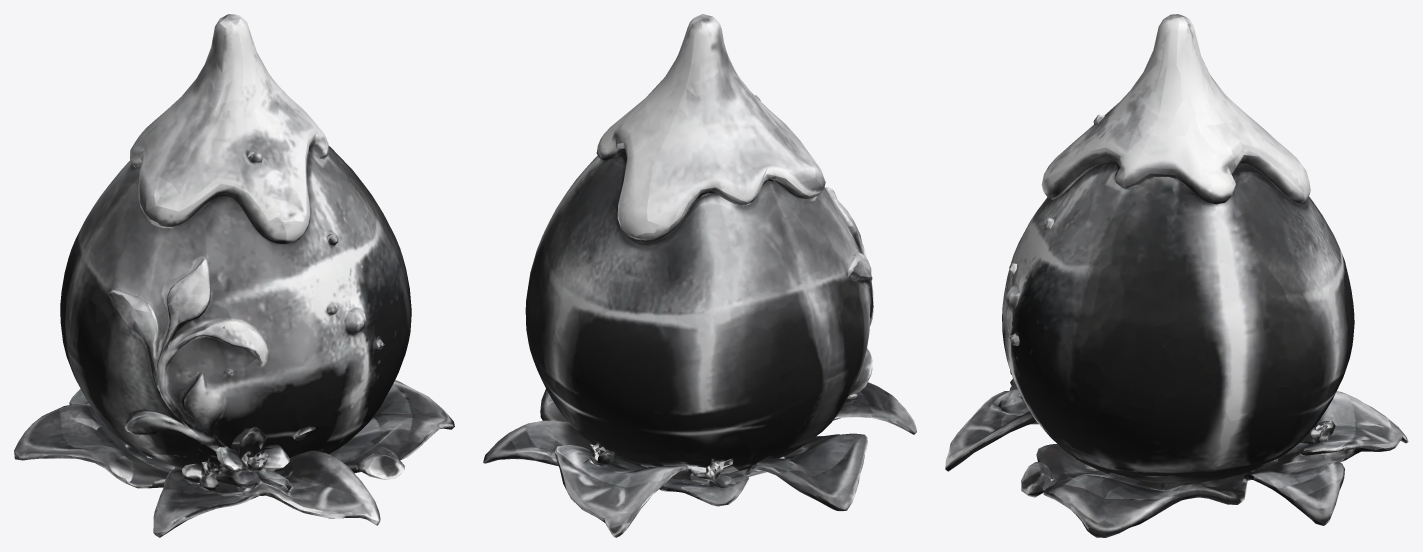
Rendered from drop-honey-silver.glb.
3 views of the same model, side by side, from view 1: azimuth 30°, elevation 25°; view 2: azimuth 150°, elevation 25°; view 3: azimuth 270°, elevation 25° (orthographic).
Visible parts, largest first — view 1: geometry_0; view 2: geometry_0; view 3: geometry_0.
Boxes of the visible parts, left/top/right/bottom form: geometry_0: left=14, top=14, right=454, bottom=537; geometry_0: left=483, top=14, right=916, bottom=537; geometry_0: left=945, top=14, right=1408, bottom=537.
Bounding box in the file's own units: 0.1321 × 0.15 × 0.1431.
Materials: 1 (1 with a texture image).
